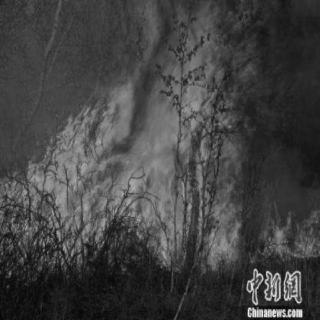Fire: (18, 17, 311, 275)
